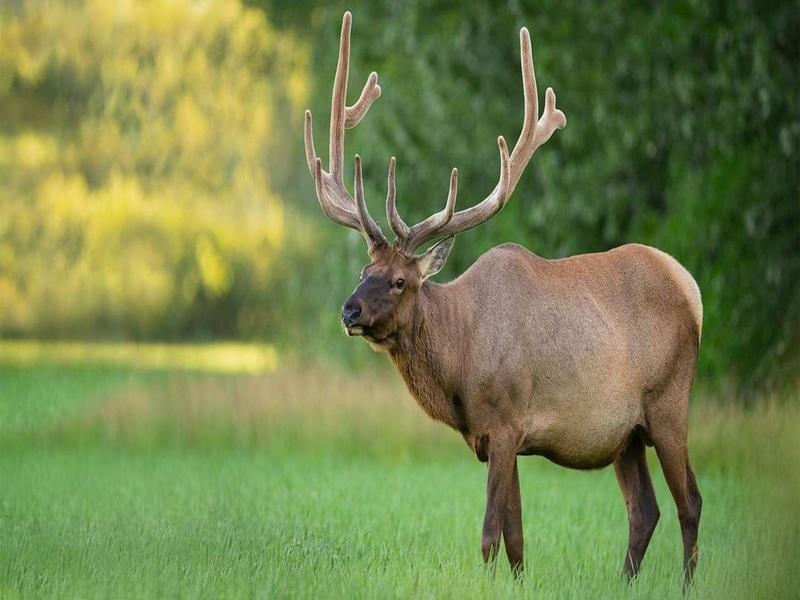elk: (337, 76, 706, 593)
